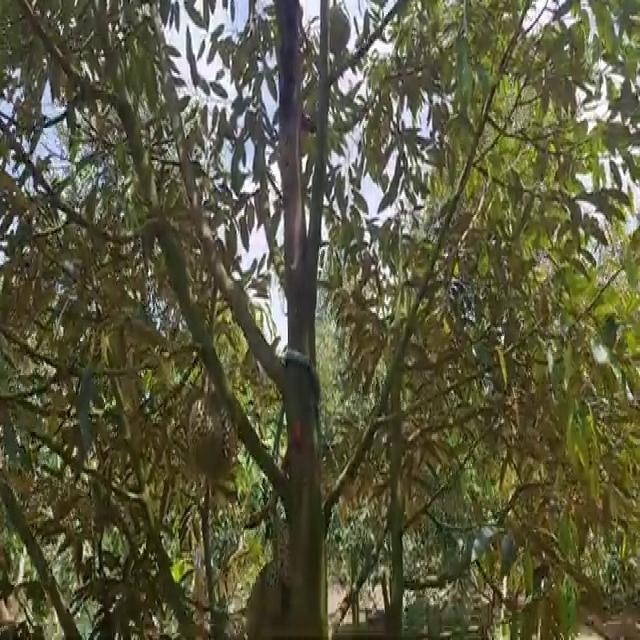durian: (182, 383, 243, 485), (234, 552, 288, 638), (274, 515, 315, 589), (320, 2, 352, 58)
